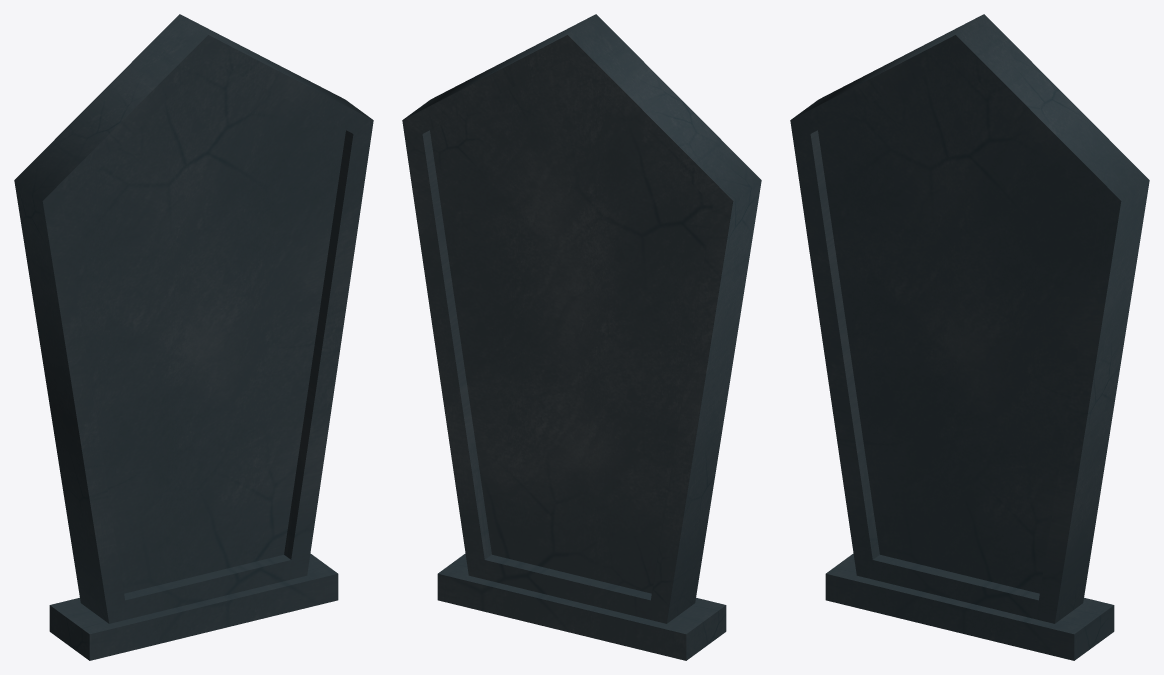
The model's file is Gravestone13_Model.fbx.
3 renders of one model, left to right at view 1: azimuth 30°, elevation 25°; view 2: azimuth 150°, elevation 25°; view 3: azimuth 330°, elevation 25°, orthographic.
Parts seen in each view (by area): view 1: Gravestone13; view 2: Gravestone13; view 3: Gravestone13.
Boxes of the visible parts, box(x1,y1,x2,y2) form: Gravestone13: box(14, 14, 373, 660); Gravestone13: box(402, 14, 761, 660); Gravestone13: box(790, 14, 1149, 660).
Size of the model in its own units: 135 by 231 by 28.31.
